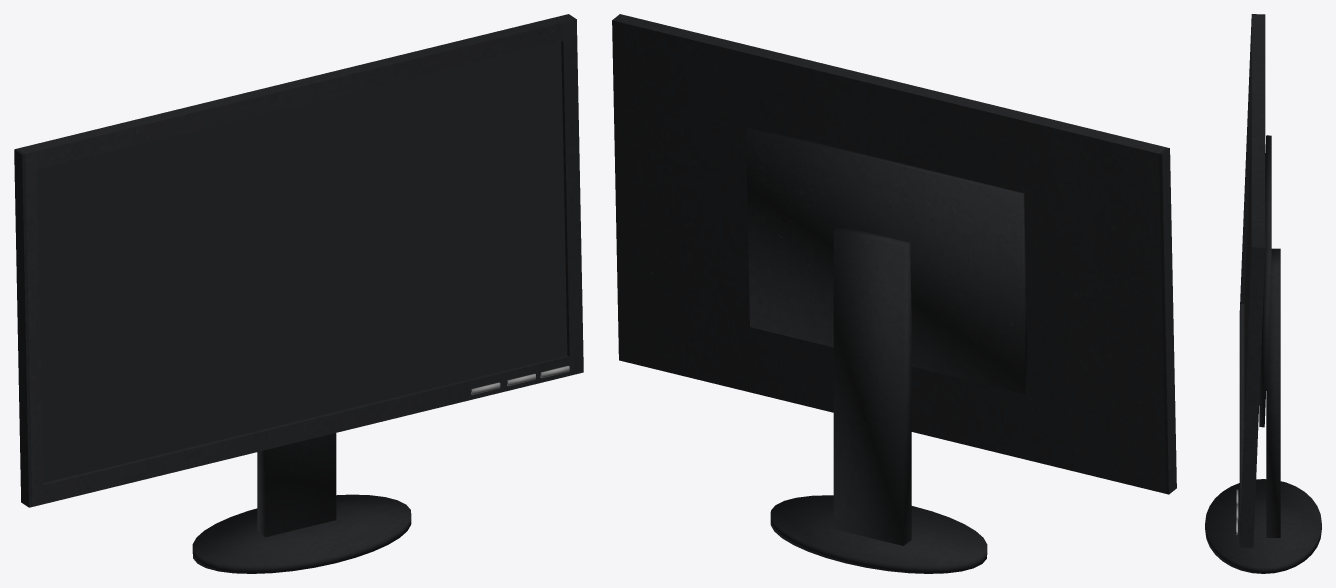
File: monitor2.fbx
The picture shows the model from 3 angles, left to right: view 1: azimuth 30°, elevation 25°; view 2: azimuth 150°, elevation 25°; view 3: azimuth 270°, elevation 25°; orthographic projection. The views are drawn at different scales.
Parts seen in each view (by area): view 1: monitor_Cube.001; view 2: monitor_Cube.001; view 3: monitor_Cube.001.
Part boxes in pixels (x1,y1,x2,y2): monitor_Cube.001: (14, 14, 583, 573); monitor_Cube.001: (612, 14, 1176, 573); monitor_Cube.001: (1205, 14, 1321, 573).
Bounding box in the file's own units: 20 × 15.81 × 4.23.
